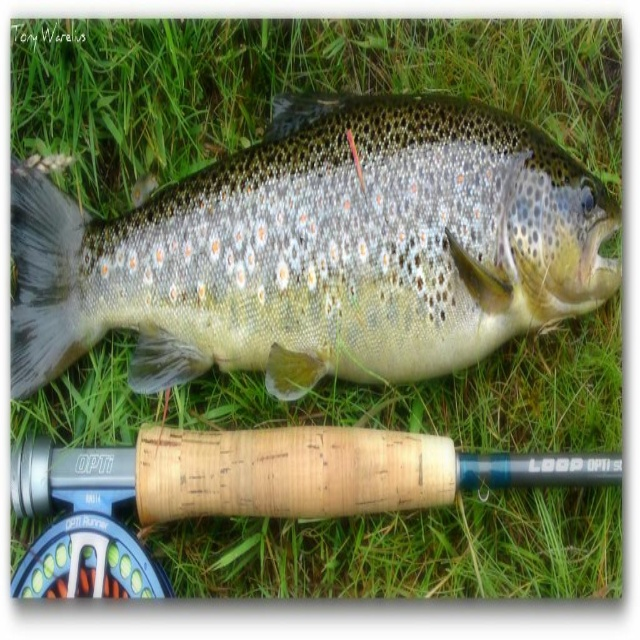Fish: (10, 91, 622, 401)
